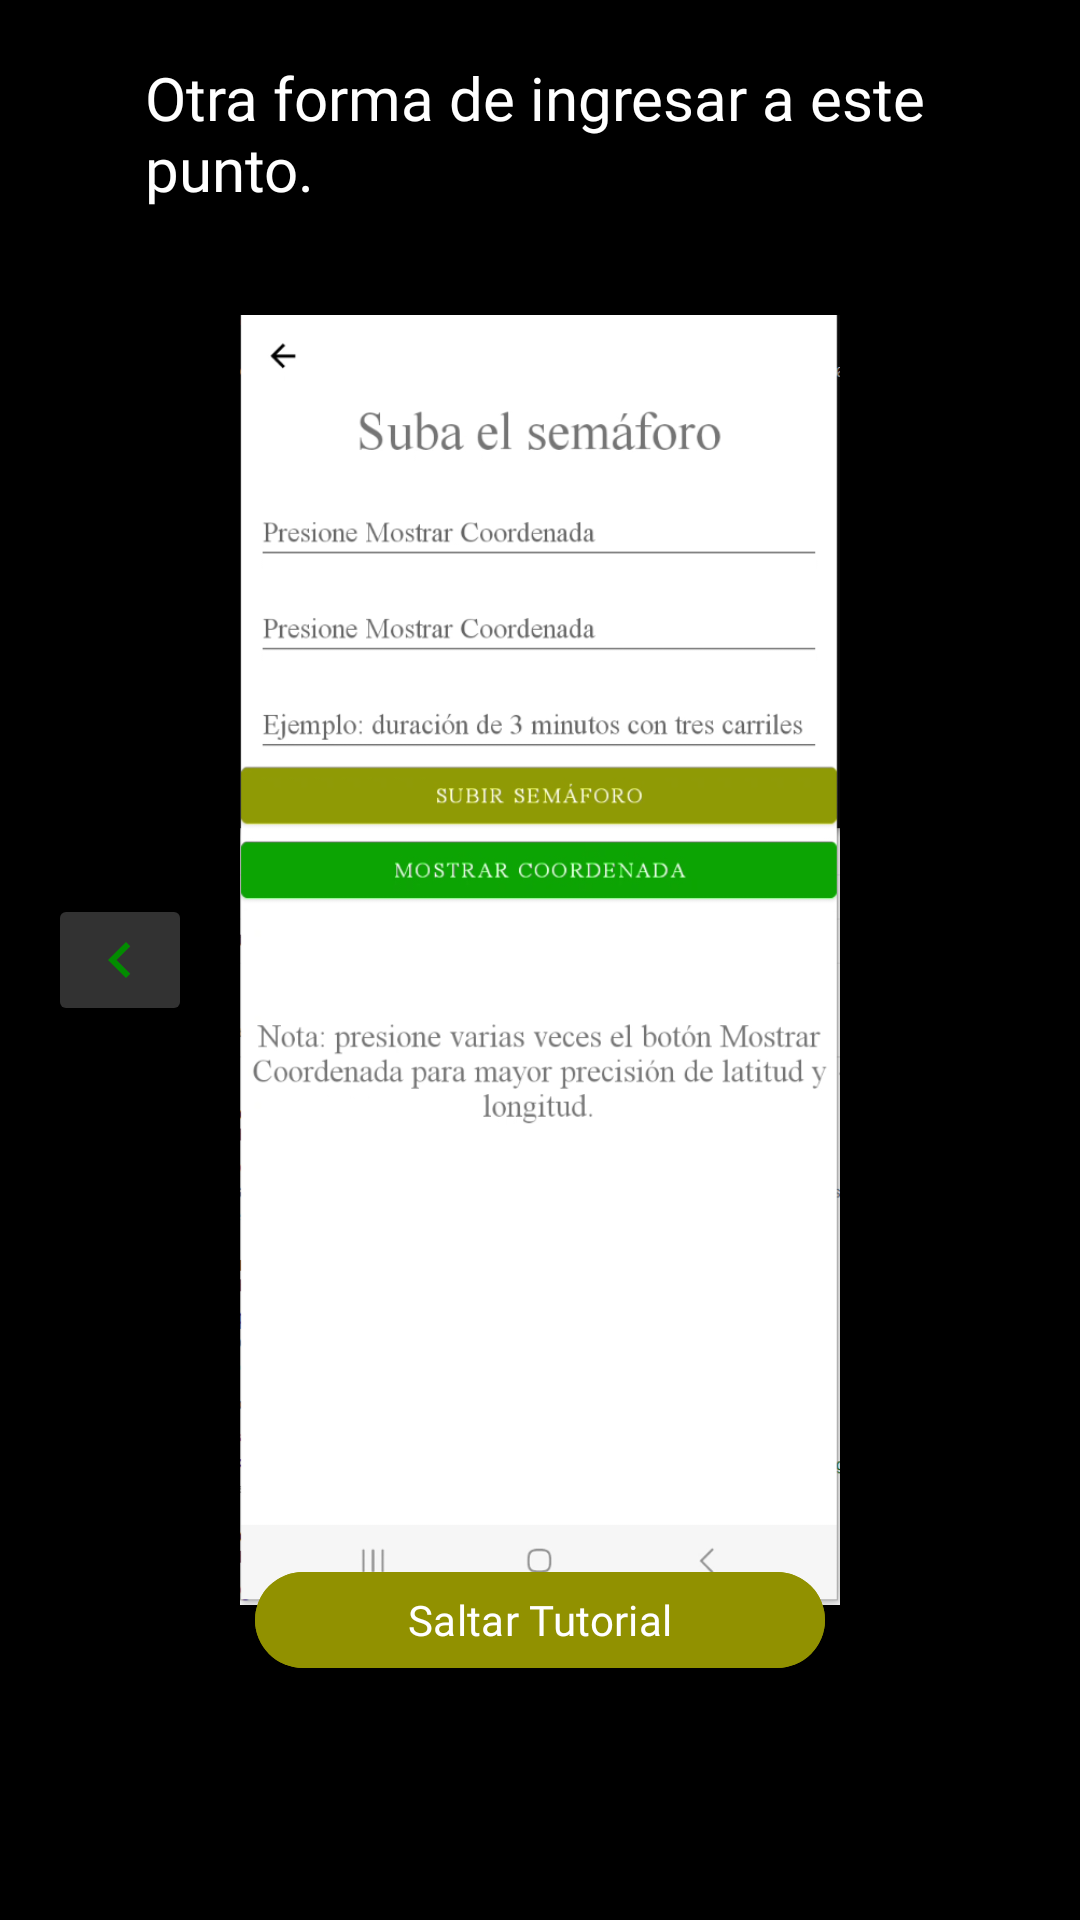

Where to tap for icons on this 1080px×1920px app screen, as (x,y):
Anterior: (120,960)
